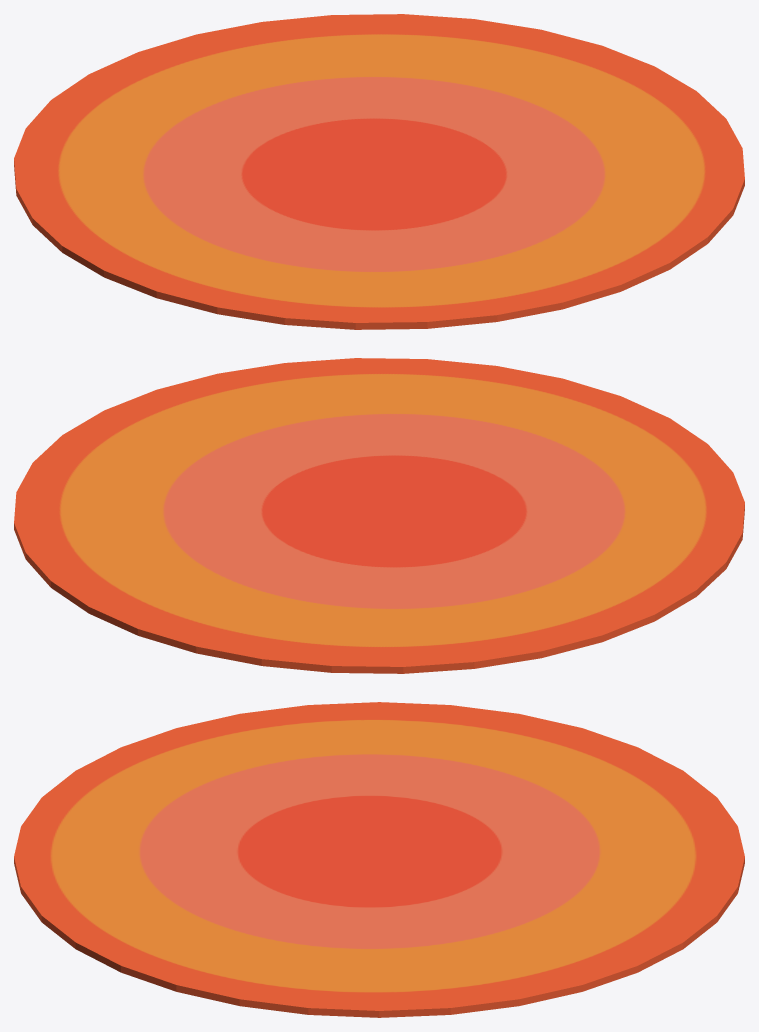
The model's file is rug.gltf.
3 renders of one model, top to bottom at view 1: azimuth 30°, elevation 25°; view 2: azimuth 150°, elevation 25°; view 3: azimuth 270°, elevation 25°, orthographic.
Visible parts, largest first — view 1: Cylinder; view 2: Cylinder; view 3: Cylinder.
Boxes of the visible parts, box(x1,y1,x2,y2) form: Cylinder: box(14, 14, 744, 329); Cylinder: box(14, 358, 744, 673); Cylinder: box(14, 702, 744, 1017).
Bounding box in the file's own units: 1.28 × 0.0133 × 1.28.
Materials: 1 (1 with a texture image).
